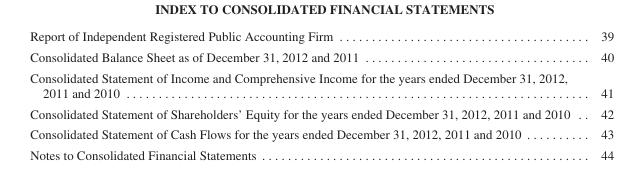table: (29, 28, 613, 161)
table column: (29, 28, 584, 161), (584, 28, 613, 161)
table row: (29, 66, 613, 102), (29, 102, 613, 123), (29, 123, 613, 144), (29, 46, 613, 66), (29, 28, 613, 46), (29, 144, 613, 161)
